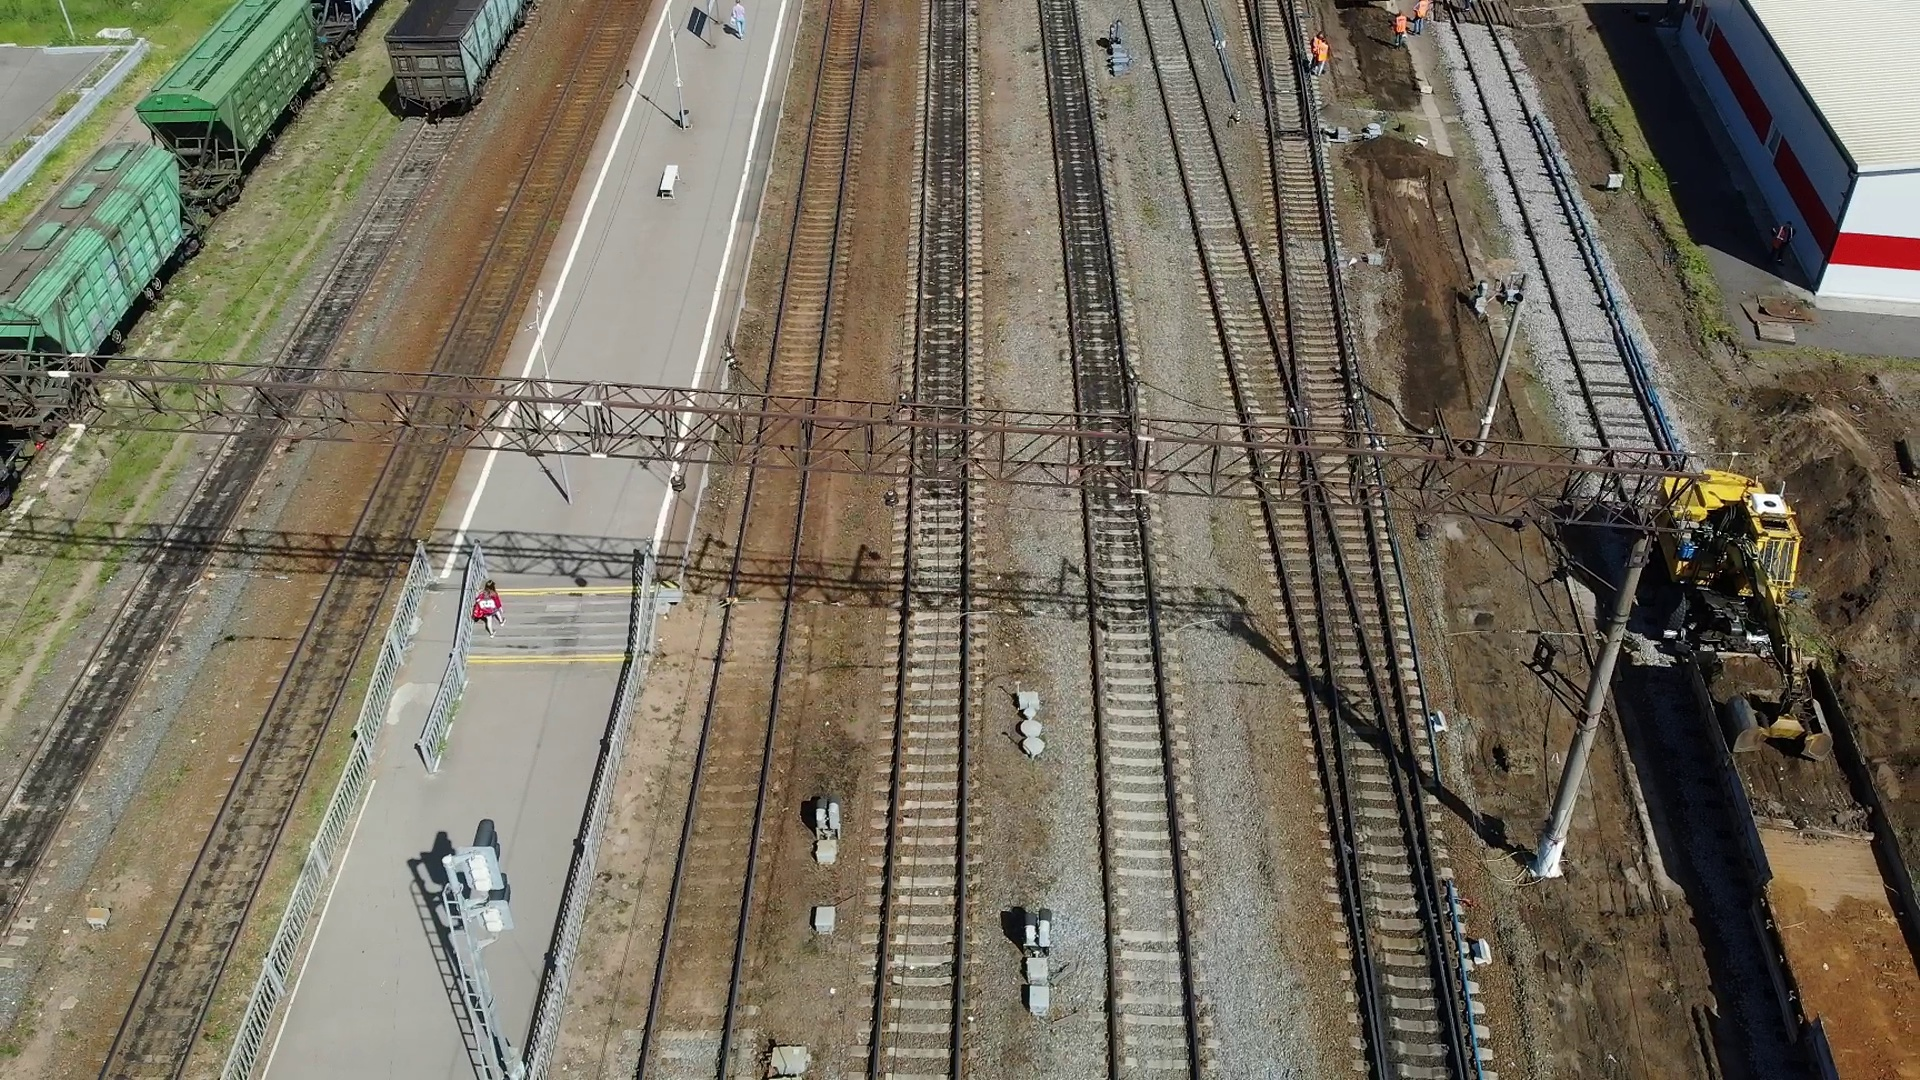kjtv: (1650, 465, 1796, 600)
